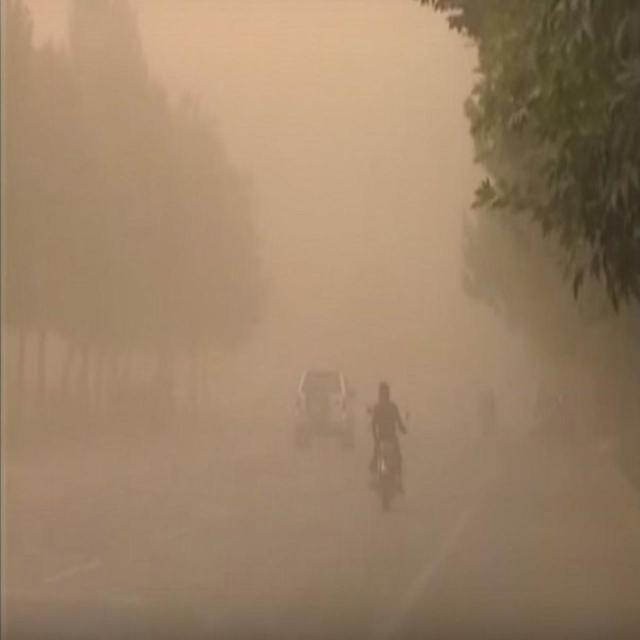Car: (294, 366, 357, 450)
Cycle: (364, 404, 411, 514)
